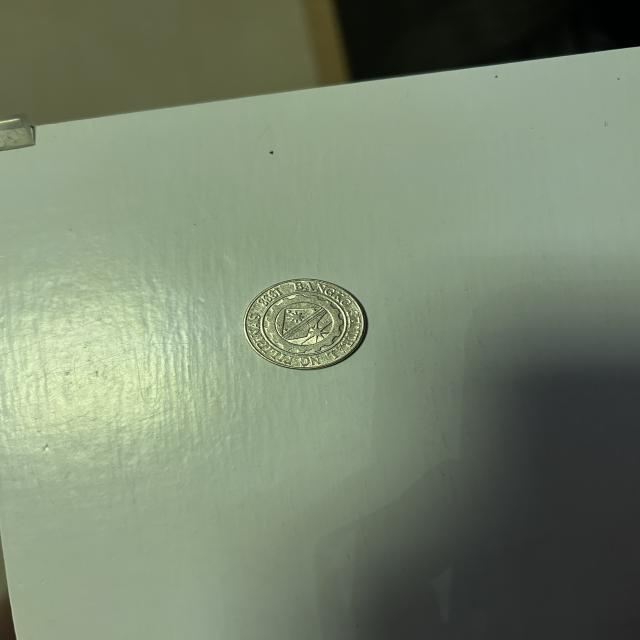1_Old_Back: (256, 291, 351, 360)
